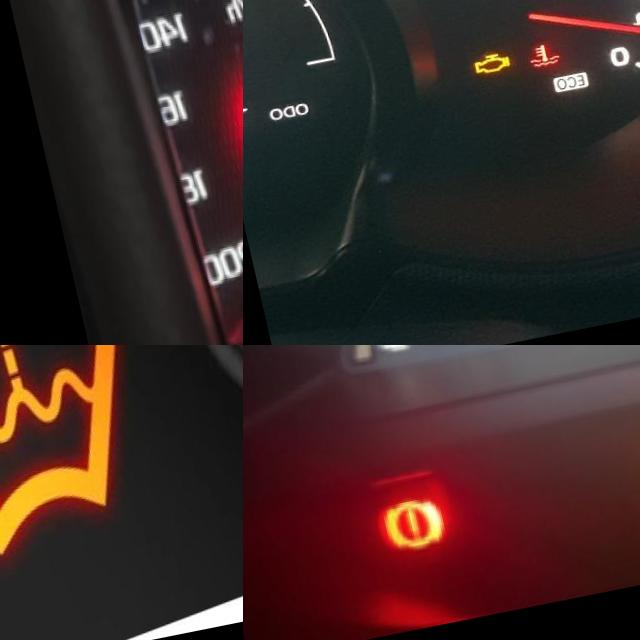Engine cooling system: (509, 54, 544, 81)
Washer Fluid: (0, 345, 145, 580)
